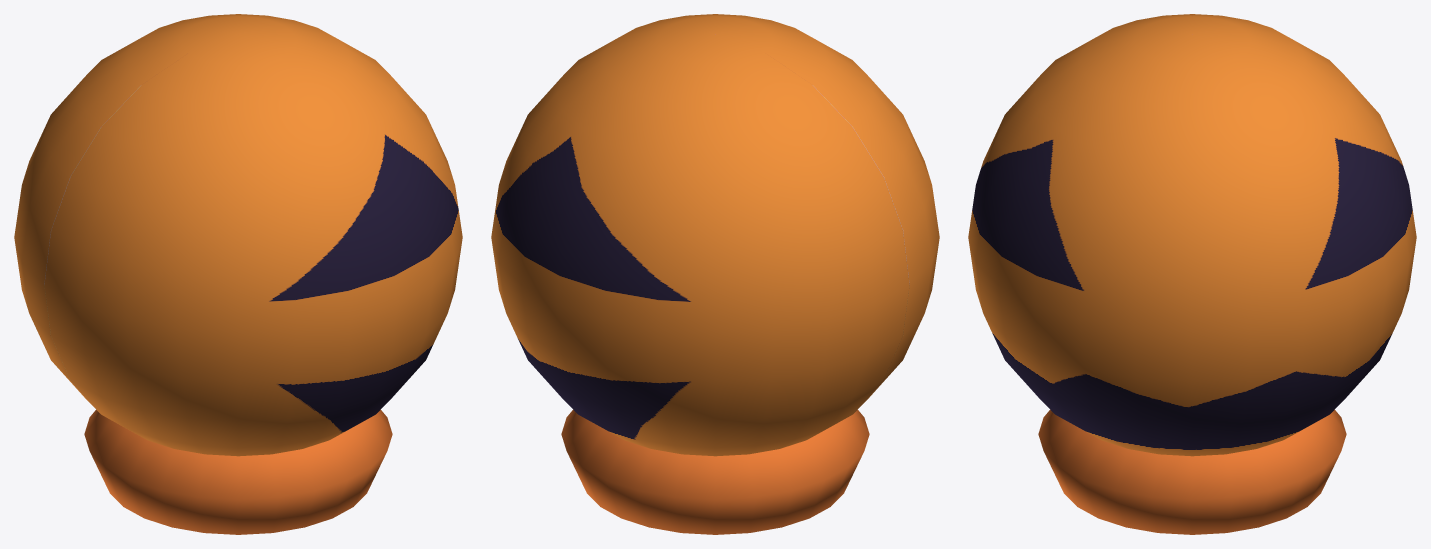
The model's file is ACC_TH_SPORT_Primary.fbx.
3 renders of one model, left to right at view 1: azimuth 30°, elevation 25°; view 2: azimuth 150°, elevation 25°; view 3: azimuth 270°, elevation 25°, orthographic.
Parts seen in each view (by area): view 1: ACC_TH_SPORT_Primary; view 2: ACC_TH_SPORT_Primary; view 3: ACC_TH_SPORT_Primary.
Boxes of the visible parts, x1,y1,x2,y2 form: ACC_TH_SPORT_Primary: [14, 14, 462, 534]; ACC_TH_SPORT_Primary: [491, 14, 939, 534]; ACC_TH_SPORT_Primary: [968, 14, 1416, 534].
Bounding box in the file's own units: 64 × 70 × 64.
